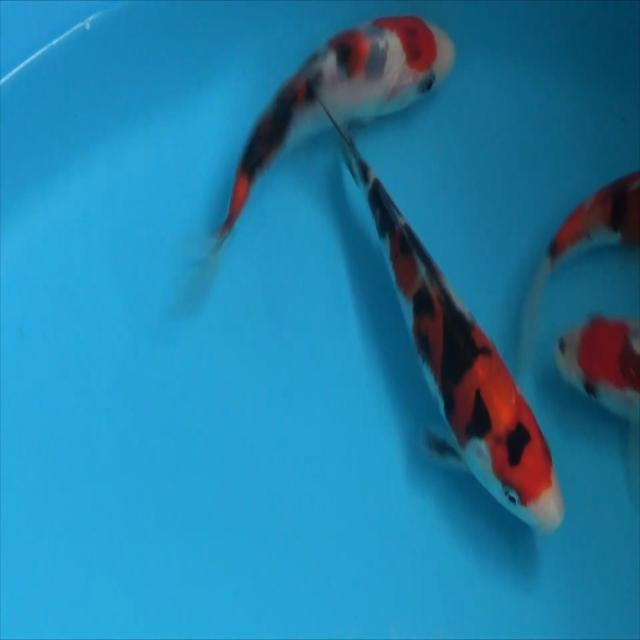Sanke: (314, 91, 566, 534), (178, 12, 456, 319), (516, 168, 639, 416), (554, 311, 639, 508)
